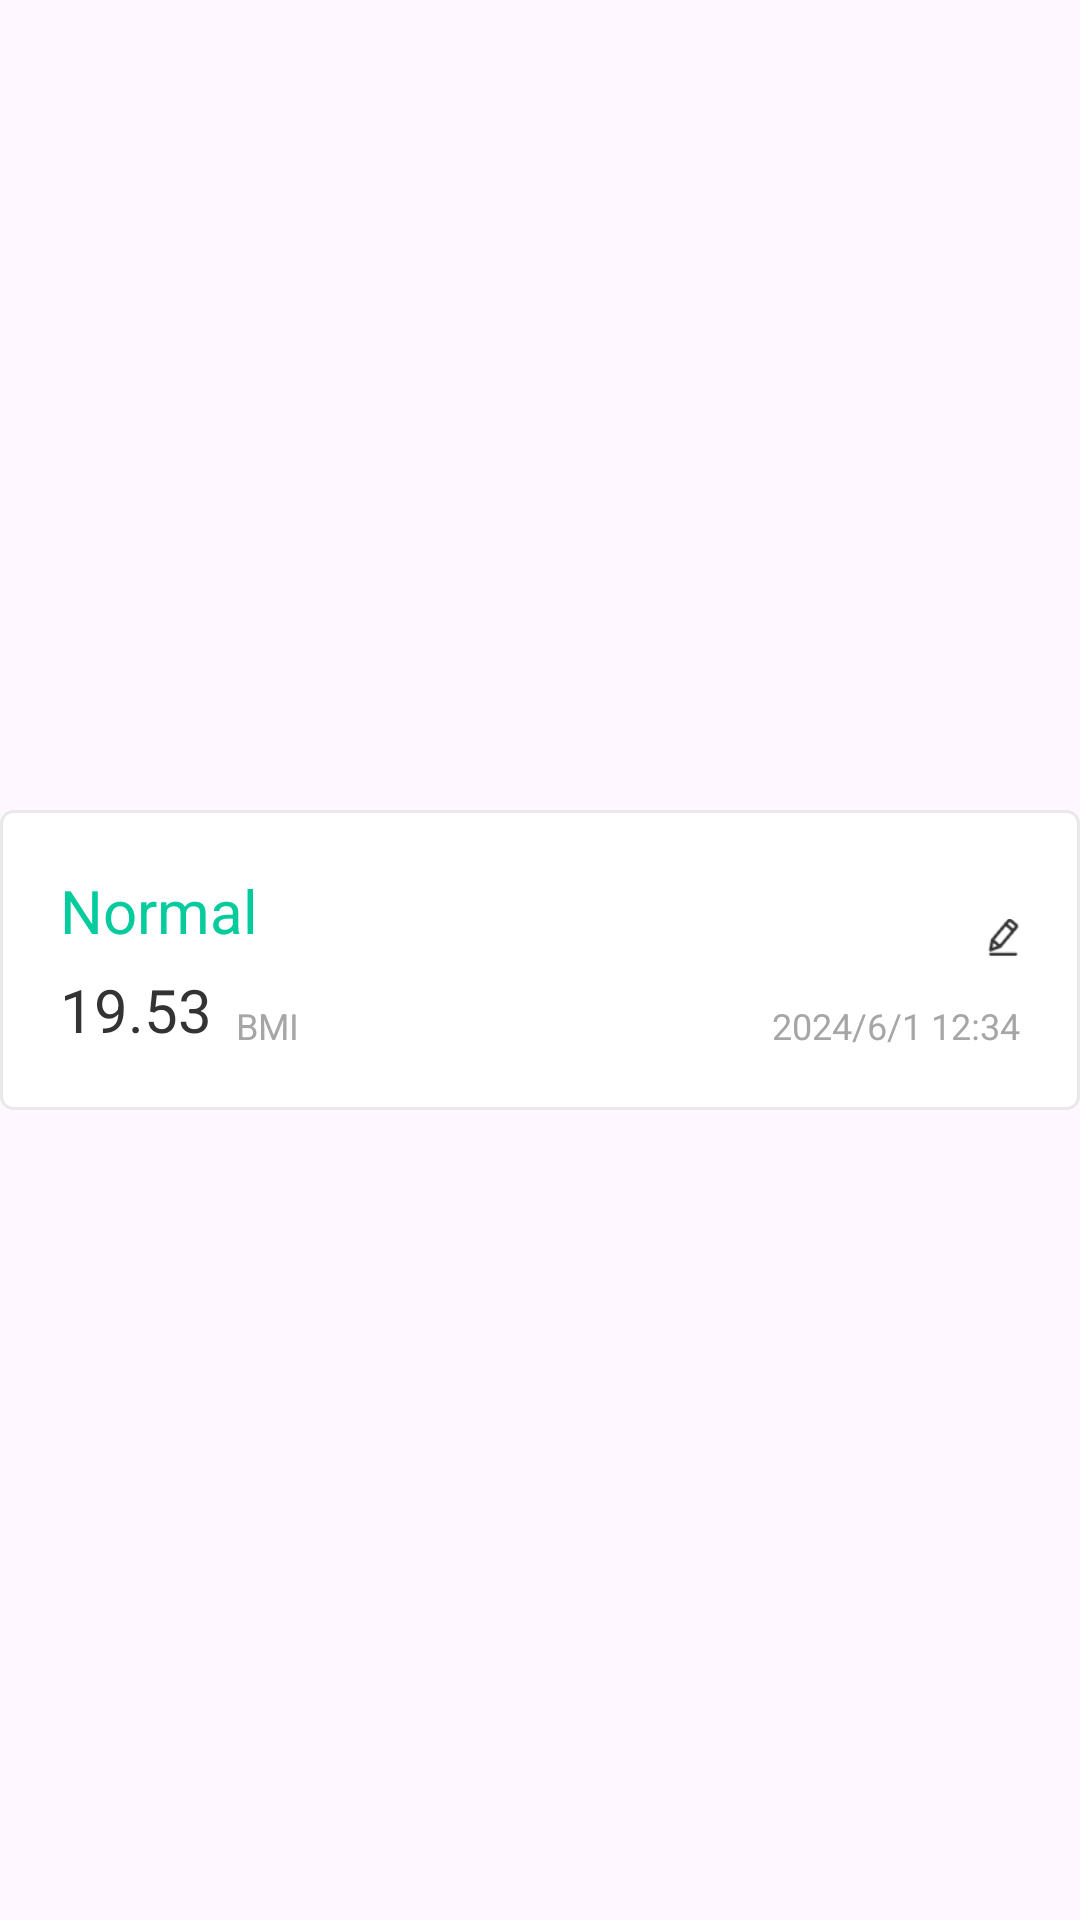

Screen size 1080x1920. Icon name, then its center in pixels as (x,y):
edit: (1003,937)
